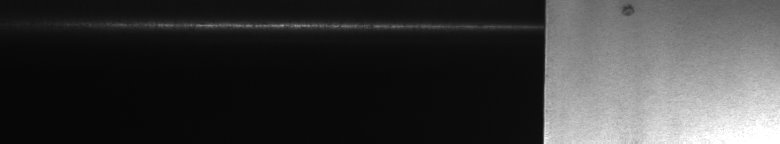fi: (620, 4, 636, 23)
